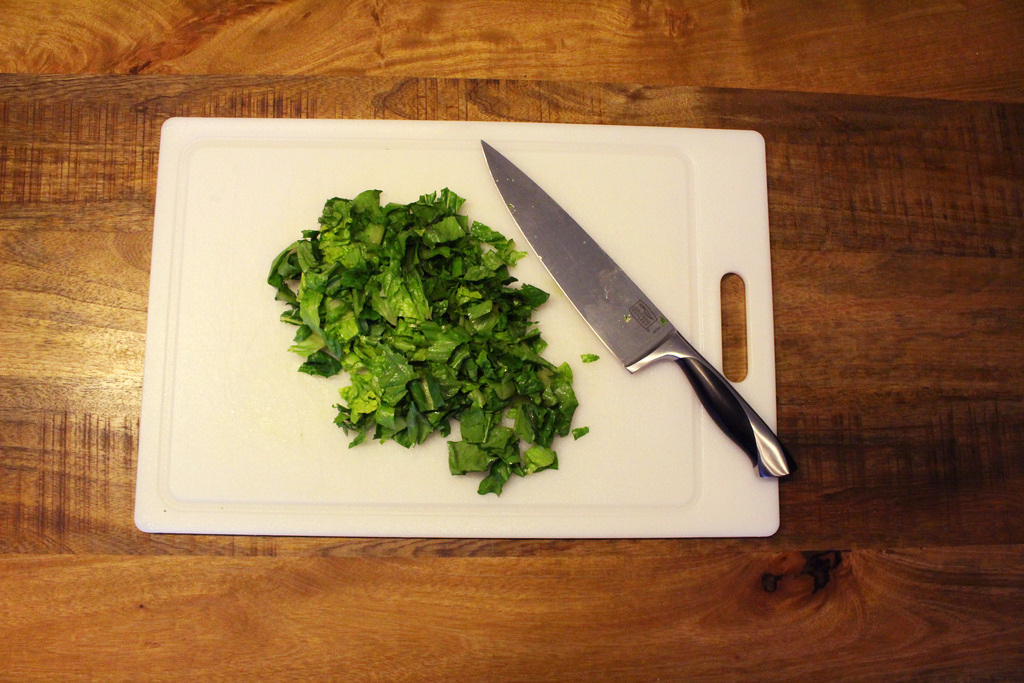chopped lettuce: (324, 218, 524, 420)
